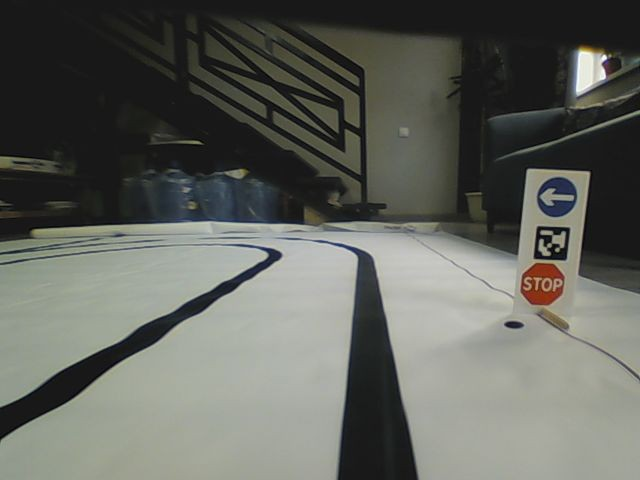Stop: (518, 261, 567, 307)
